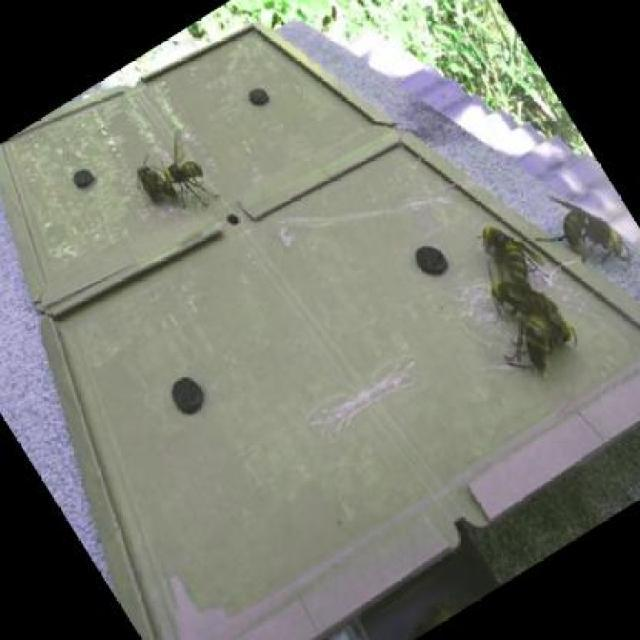Wasp: (558, 196, 628, 271), (477, 220, 531, 283)
